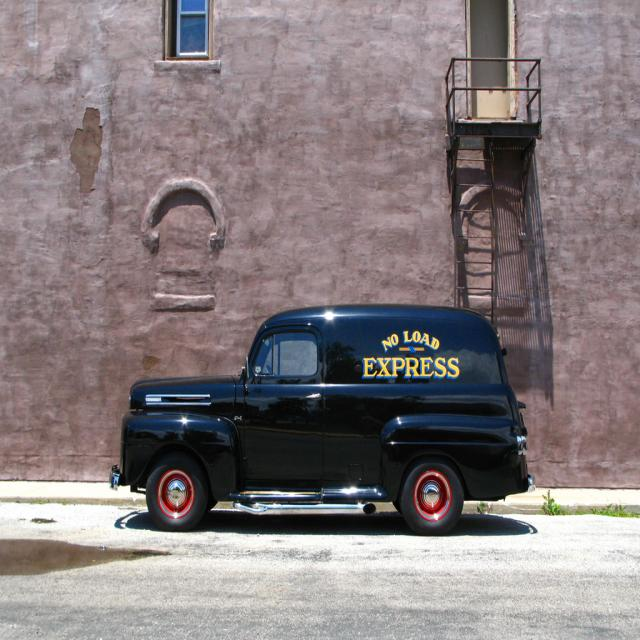car: (109, 302, 544, 540)
